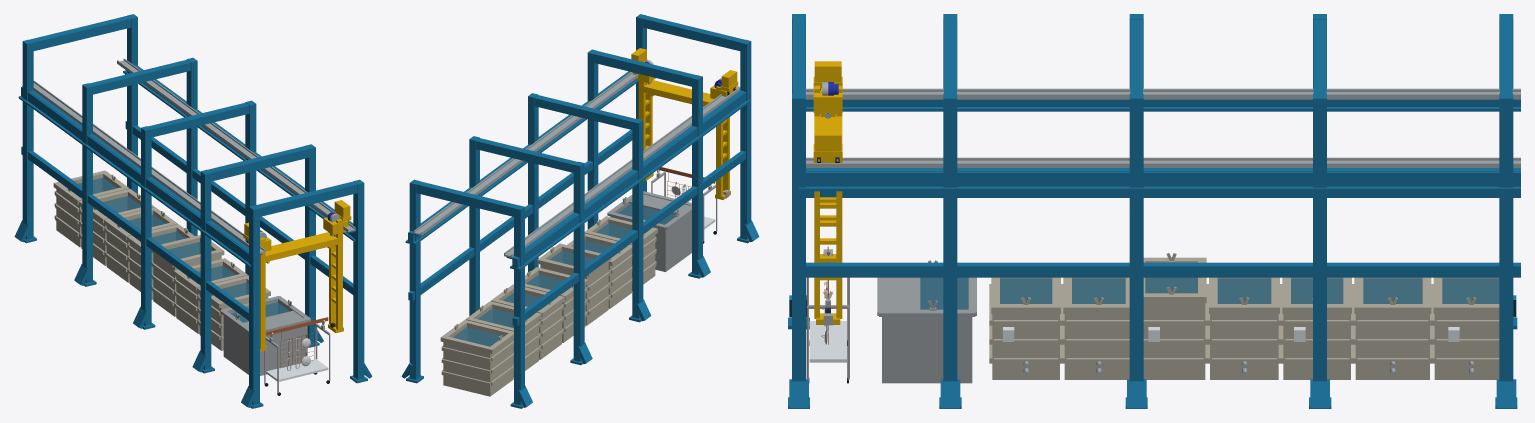
3 views of the same model, side by side, from view 1: azimuth 30°, elevation 25°; view 2: azimuth 150°, elevation 25°; view 3: azimuth 270°, elevation 25° (orthographic). The views are drawn at different scales.
Visible parts, largest first — view 1: TP-rotaia-media-0, TP-colonna-41, TP-rotaia-alta-0, TP-colonna-00, TP-colonna-30, TP-colonna-40, TP-colonna-20, TP-colonna-10, TP-rotaia-media-1, TP-colonna-31, TP-serbatoio-testa-1, TP-colonna-11 (+33 smaller); view 2: TP-rotaia-media-0, TP-rotaia-alta-0, TP-rotaia-media-1, TP-colonna-01, TP-colonna-20, TP-colonna-10, TP-colonna-40, TP-colonna-00, TP-colonna-30, TP-colonna-11, TP-colonna-31, TP-trave-portale-0 (+40 smaller); view 3: TP-rotaia-media-1, TP-rotaia-alta-1, TP-rotaia-alta-0, TP-serbatoio-lato-1, TP-rotaia-media-0, TP-colonna-21, TP-colonna-31, TP-colonna-01, TP-suola-rotaia-1, TP-colonna-41, TP-colonna-11, TP-vasca-5-lato-1 (+46 smaller).
Boxes of the visible parts, x1,y1,x2,y2 form: TP-rotaia-media-0: [21, 146, 248, 320]; TP-colonna-41: [353, 179, 364, 379]; TP-rotaia-alta-0: [21, 87, 248, 262]; TP-colonna-00: [22, 39, 33, 239]; TP-colonna-30: [200, 169, 211, 369]; TP-colonna-40: [249, 205, 259, 405]; TP-colonna-20: [141, 126, 151, 326]; TP-colonna-10: [82, 83, 92, 283]; TP-rotaia-media-1: [125, 121, 353, 294]; TP-colonna-31: [305, 144, 315, 343]; TP-serbatoio-testa-1: [260, 326, 305, 373]; TP-colonna-11: [186, 57, 197, 235]; TP-rotaia-media-0: [512, 150, 745, 326]; TP-rotaia-alta-0: [512, 92, 746, 268]; TP-rotaia-media-1: [408, 130, 632, 300]; TP-colonna-01: [409, 179, 420, 379]; TP-colonna-20: [632, 118, 643, 318]; TP-colonna-10: [573, 161, 584, 361]; TP-colonna-40: [740, 39, 751, 239]; TP-colonna-00: [514, 205, 524, 405]; TP-colonna-30: [692, 75, 702, 275]; TP-colonna-11: [469, 136, 479, 315]; TP-colonna-31: [587, 49, 598, 229]; TP-trave-portale-0: [410, 180, 524, 217]; TP-rotaia-media-1: [806, 262, 1520, 277]; TP-rotaia-alta-1: [806, 172, 1520, 186]; TP-rotaia-alta-0: [806, 99, 1520, 106]; TP-serbatoio-lato-1: [882, 317, 972, 379]; TP-rotaia-media-0: [806, 191, 1520, 197]; TP-colonna-21: [1129, 93, 1143, 381]; TP-colonna-31: [943, 93, 957, 381]; TP-colonna-01: [1499, 93, 1513, 381]; TP-suola-rotaia-1: [799, 186, 1520, 191]; TP-colonna-41: [792, 93, 805, 381]; TP-colonna-11: [1313, 93, 1326, 381]; TP-vasca-5-lato-1: [1143, 303, 1205, 377].
Size of the model in its own units: 3.89 by 5.85 by 12.59.
